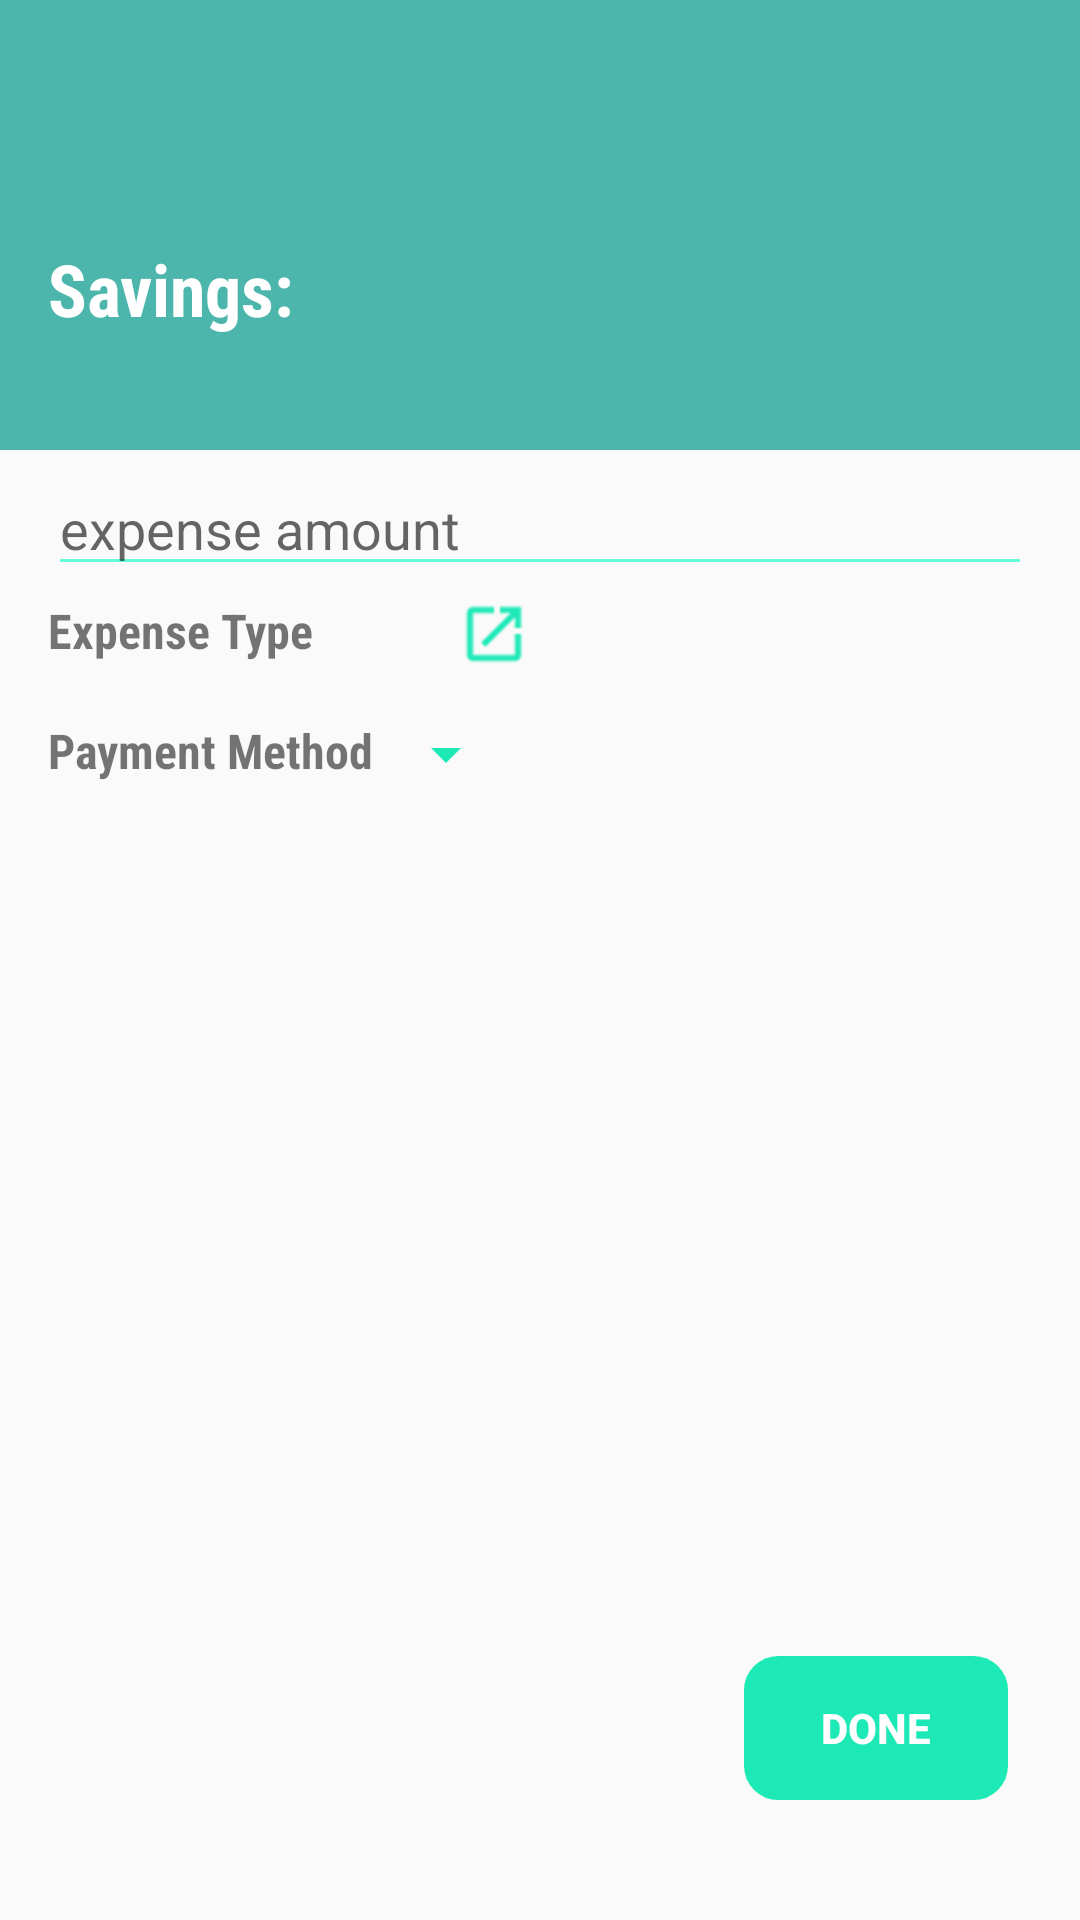

Icons on this 1080×1920 Android screen, each with the point to tap as (x,y):
open in: (494,634)
